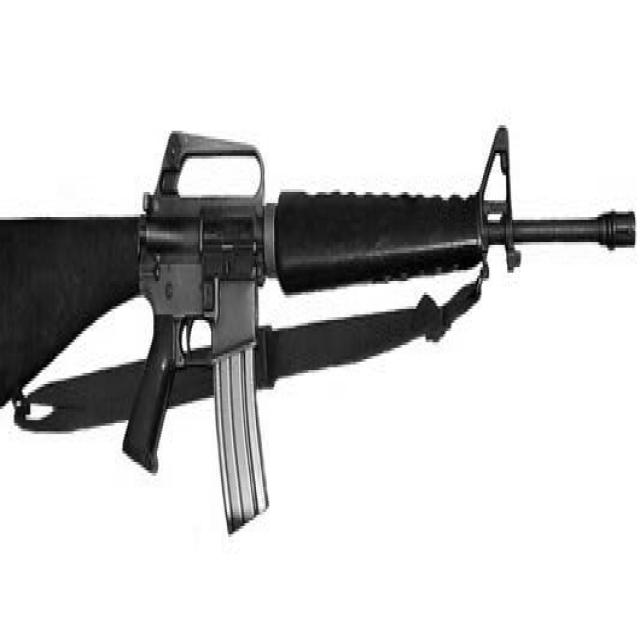Weapon: (0, 125, 635, 529)
